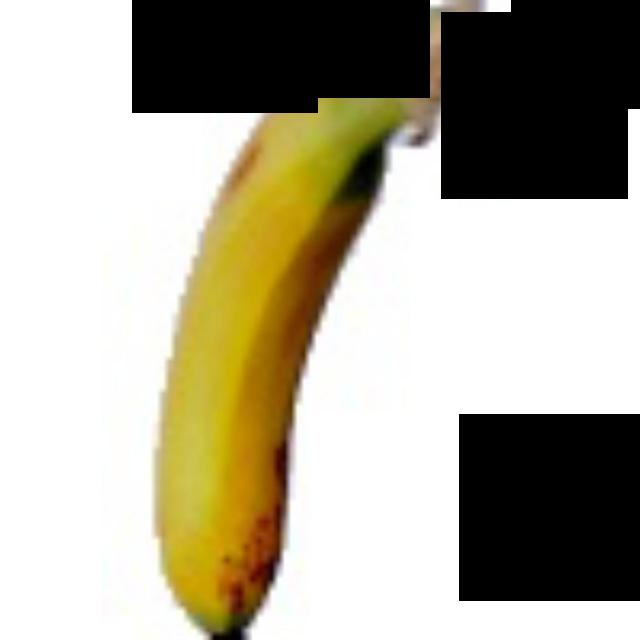banana: (45, 0, 538, 634)
